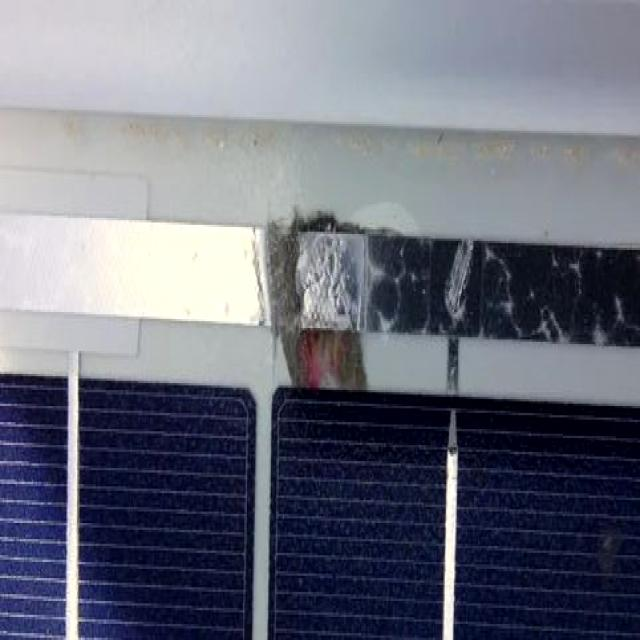shadow: (248, 172, 434, 412)
